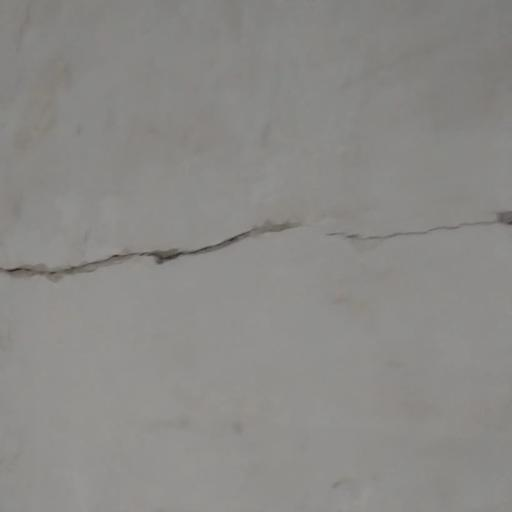minor_crack: (0, 202, 512, 289)
